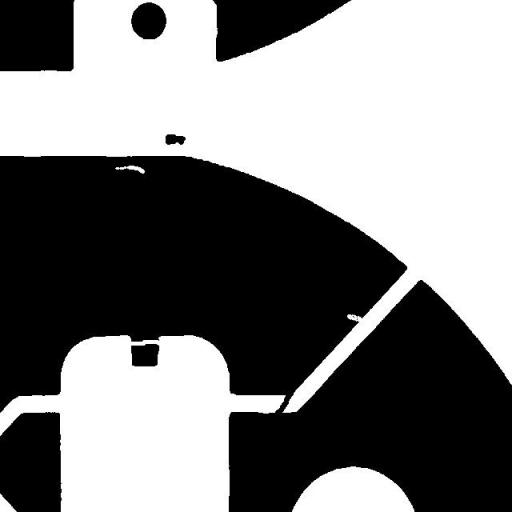copper: (158, 126, 192, 152)
mousebite: (339, 306, 371, 329)
open: (119, 332, 171, 355)
pin-hole: (107, 158, 152, 180)
short: (267, 382, 301, 422)
